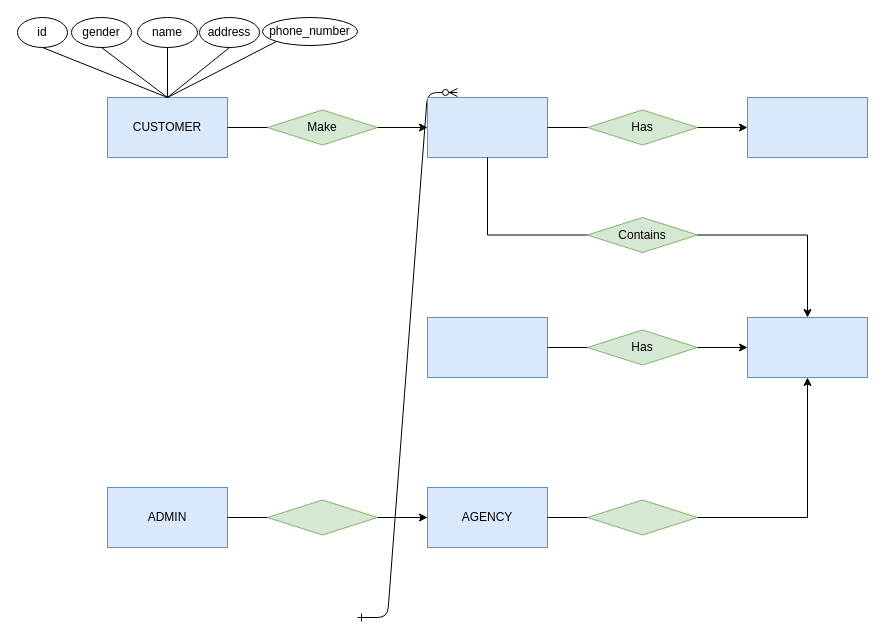
This 885x644 diagram has some shape labels left out. Each missing label, with the centre of its shape:
Manage: pixel 322 517
ORDER: pixel 487 127
PRODUCT: pixel 807 347
PRODUCT CATEGORY: pixel 487 347
Supplies: pixel 642 517
TRACKING INFO: pixel 807 127
